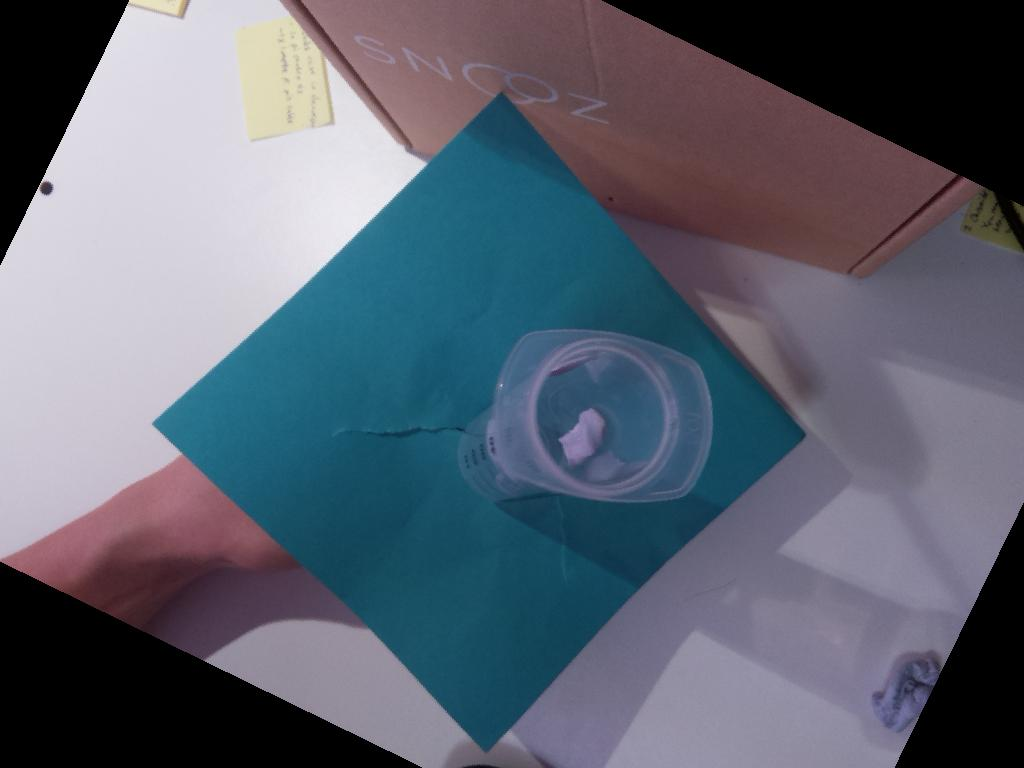dirty: (496, 327, 715, 503)
